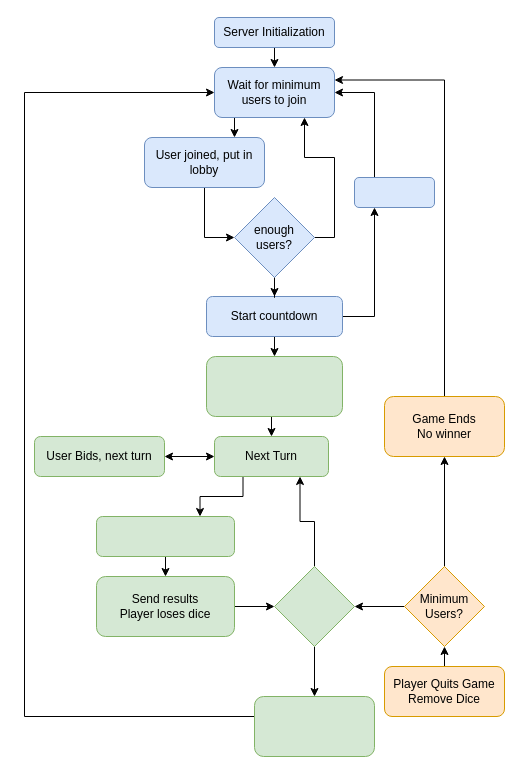
The diagram is 522 pixels wide and 774 high, and some of its shapes have lost their labels. The shapes that lost their labels are listed below. From the top down, each one's box as (x1, y1, x2, y2) in pixels, then its label:
(354, 176, 434, 208): Users Quit
(206, 356, 342, 416): Start round Set player order Give players dice
(96, 516, 234, 556): User Challenges
(274, 566, 354, 646): Min players with dice?
(254, 696, 374, 756): Game ends Winner announced Everyone in lobby
